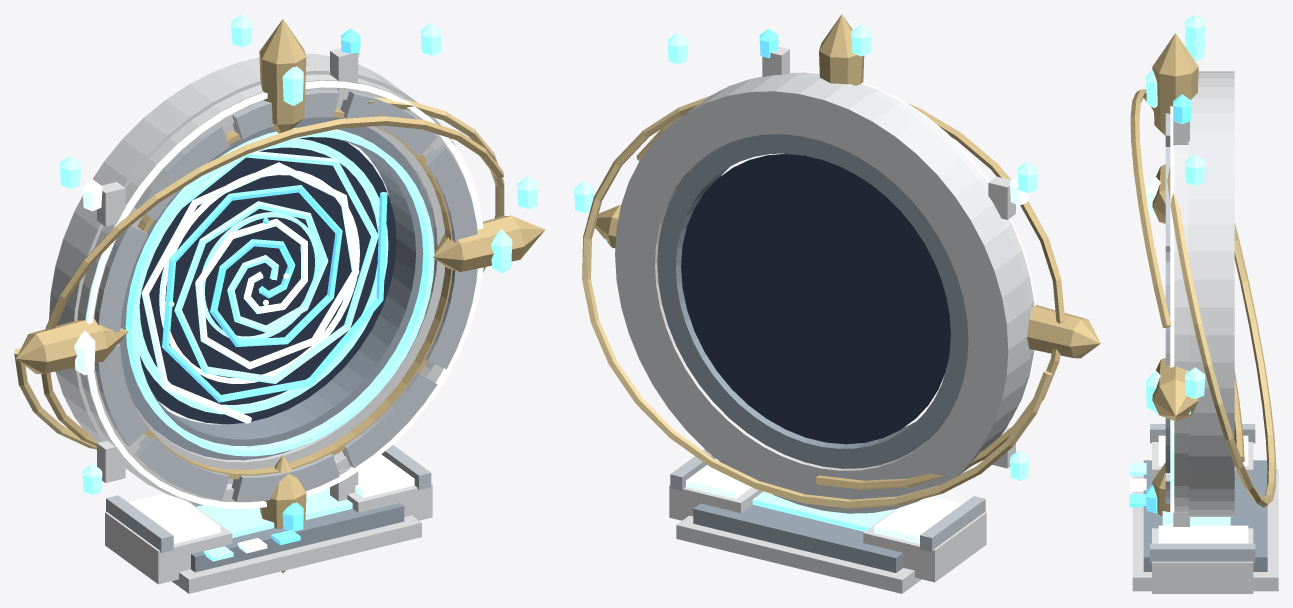
Rendered from astral_aurora.glb.
3 views of the same model, side by side, from view 1: azimuth 30°, elevation 25°; view 2: azimuth 150°, elevation 25°; view 3: azimuth 270°, elevation 25° (orthographic). The views are drawn at different scales.
Visible parts, largest first — view 1: MATERIAL_cyan, MATERIAL_black, MATERIAL_silver, MATERIAL_light_blue, MATERIAL_ivory, MATERIAL_gold, MATERIAL_steel, MATERIAL_white, MATERIAL_blue, MATERIAL_warm_gold; view 2: MATERIAL_ivory, MATERIAL_black, MATERIAL_steel, MATERIAL_gold, MATERIAL_white, MATERIAL_warm_gold, MATERIAL_cyan, MATERIAL_light_blue, MATERIAL_silver; view 3: MATERIAL_ivory, MATERIAL_white, MATERIAL_gold, MATERIAL_warm_gold, MATERIAL_light_blue, MATERIAL_silver, MATERIAL_cyan, MATERIAL_steel, MATERIAL_blue.
Part boxes in pixels (<box>): MATERIAL_cyan: <box>60,14,538,561</box>; MATERIAL_black: <box>139,137,396,424</box>; MATERIAL_silver: <box>94,89,477,552</box>; MATERIAL_light_blue: <box>74,80,483,553</box>; MATERIAL_ivory: <box>49,53,455,593</box>; MATERIAL_gold: <box>16,19,545,572</box>; MATERIAL_steel: <box>119,117,435,572</box>; MATERIAL_white: <box>77,48,494,584</box>; MATERIAL_blue: <box>162,28,387,545</box>; MATERIAL_warm_gold: <box>14,97,504,449</box>; MATERIAL_ivory: <box>615,74,1030,593</box>; MATERIAL_black: <box>681,153,950,444</box>; MATERIAL_steel: <box>657,134,968,572</box>; MATERIAL_gold: <box>587,14,1100,489</box>; MATERIAL_white: <box>669,46,1034,582</box>; MATERIAL_warm_gold: <box>582,96,1052,508</box>; MATERIAL_cyan: <box>574,24,1037,531</box>; MATERIAL_light_blue: <box>686,71,1055,543</box>; MATERIAL_silver: <box>670,449,985,551</box>; MATERIAL_ivory: <box>1132,71,1278,591</box>; MATERIAL_white: <box>1152,114,1253,593</box>; MATERIAL_gold: <box>1130,33,1244,515</box>; MATERIAL_warm_gold: <box>1165,164,1276,507</box>; MATERIAL_light_blue: <box>1129,106,1248,543</box>; MATERIAL_silver: <box>1150,113,1255,562</box>; MATERIAL_cyan: <box>1129,14,1230,525</box>; MATERIAL_steel: <box>1143,460,1267,571</box>; MATERIAL_blue: <box>1129,94,1191,513</box>.
Bounding box in the file's own units: 7.78 × 7.8 × 1.99.
